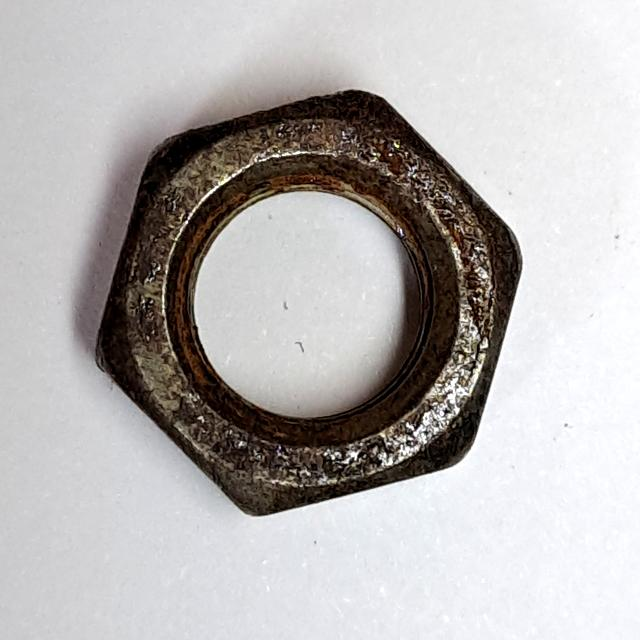Rust: (85, 81, 531, 530)
